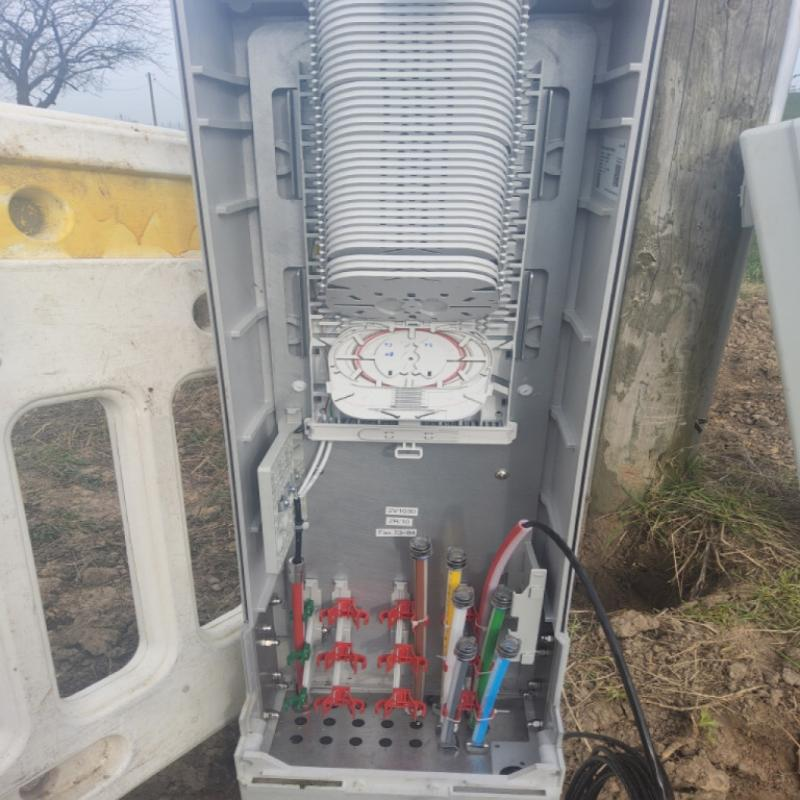NT-Gehause: (175, 2, 660, 795)
Spleiskassetten: (294, 0, 545, 446)
